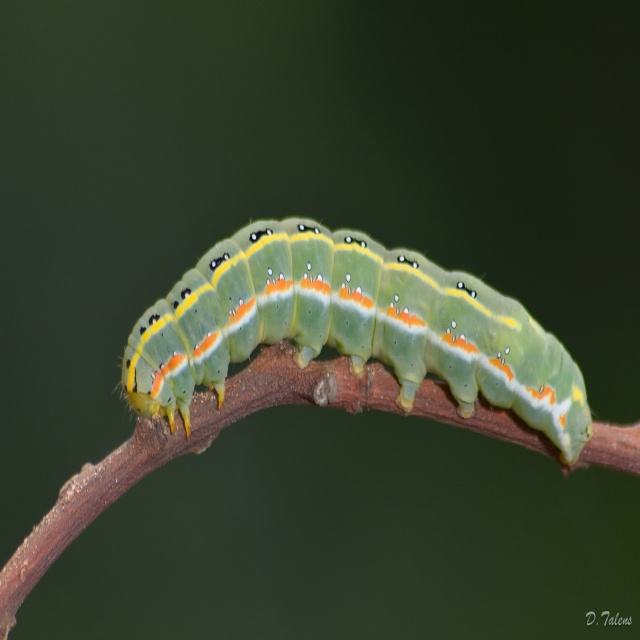Caterpillar: (114, 216, 593, 466)
